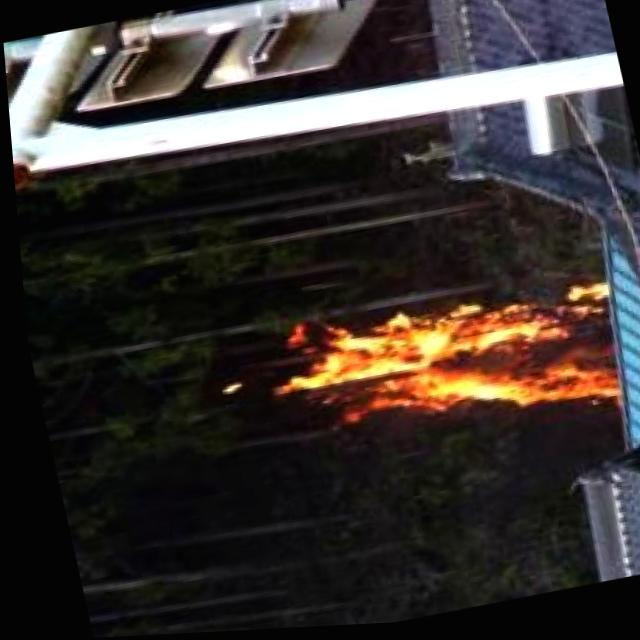no_helmet: (246, 265, 625, 463)
